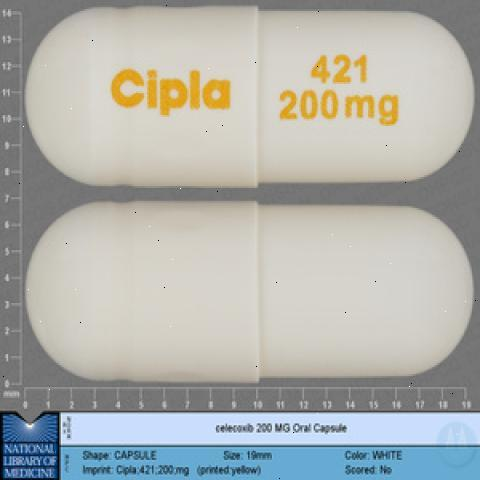Pill: (12, 194, 480, 408), (20, 12, 480, 188)
